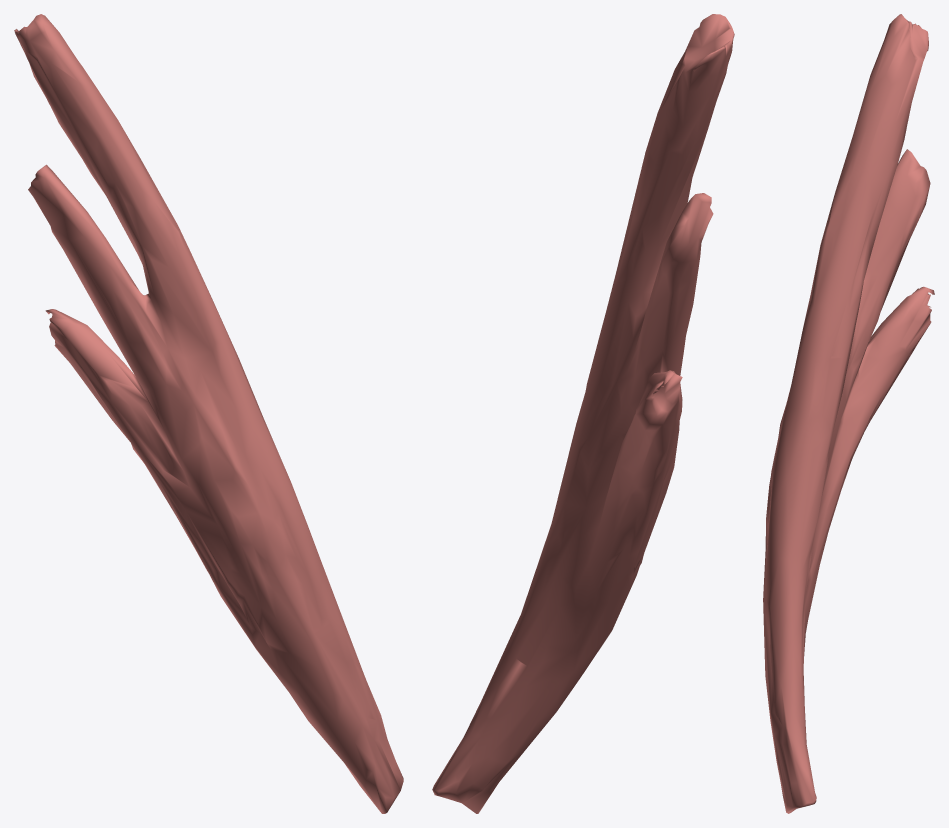
The picture shows the model from 3 angles, left to right: view 1: azimuth 30°, elevation 25°; view 2: azimuth 150°, elevation 25°; view 3: azimuth 270°, elevation 25°; orthographic projection. The views are drawn at different scales.
Visible parts, largest first — view 1: ZA_db393a427ee51d82; view 2: ZA_db393a427ee51d82; view 3: ZA_db393a427ee51d82.
Part boxes in pixels (x1,y1,x2,y2): ZA_db393a427ee51d82: (14, 14, 403, 813); ZA_db393a427ee51d82: (432, 14, 734, 813); ZA_db393a427ee51d82: (763, 14, 934, 813).
Size of the model in its own units: 0.0343 by 0.0828 by 0.0188.
